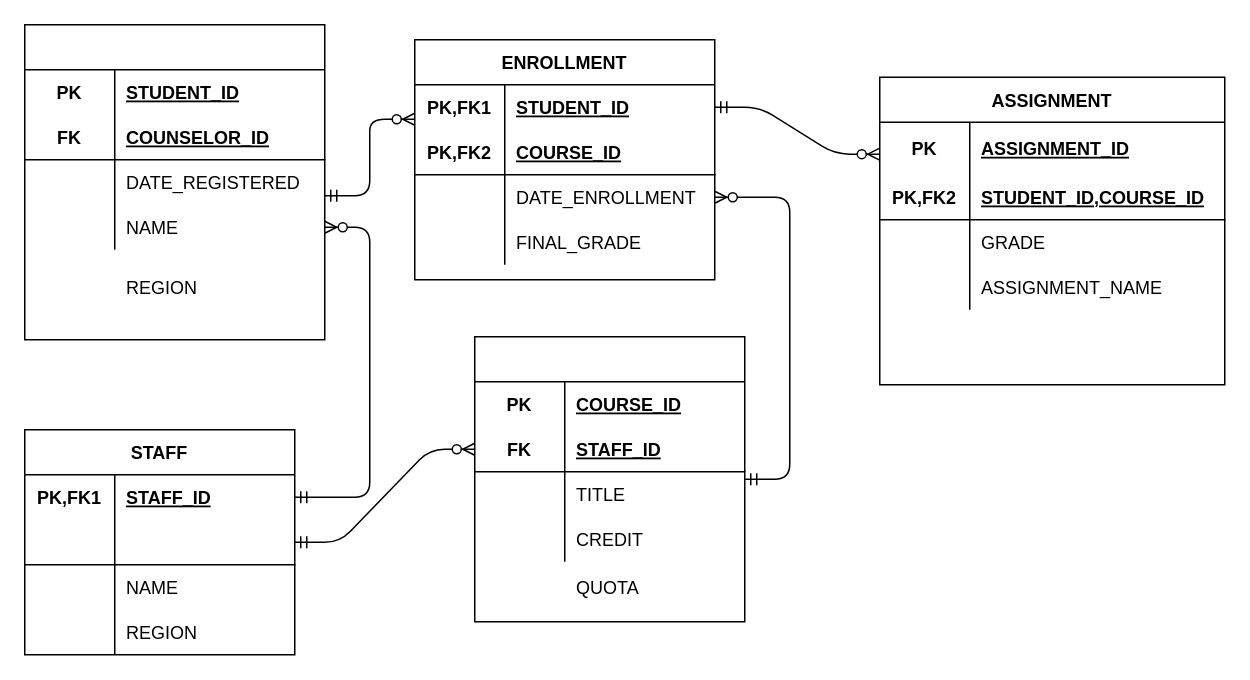
Some shapes in this 1250 by 680 pixel diagram are drawn without their labels. The shapes that lost their labels are listed below. From the top down, each one's box as (x1, y1, x2, y2) in pixels, then its label:
(23, 23, 325, 340): STUDENTS
(473, 335, 745, 622): COURSES
